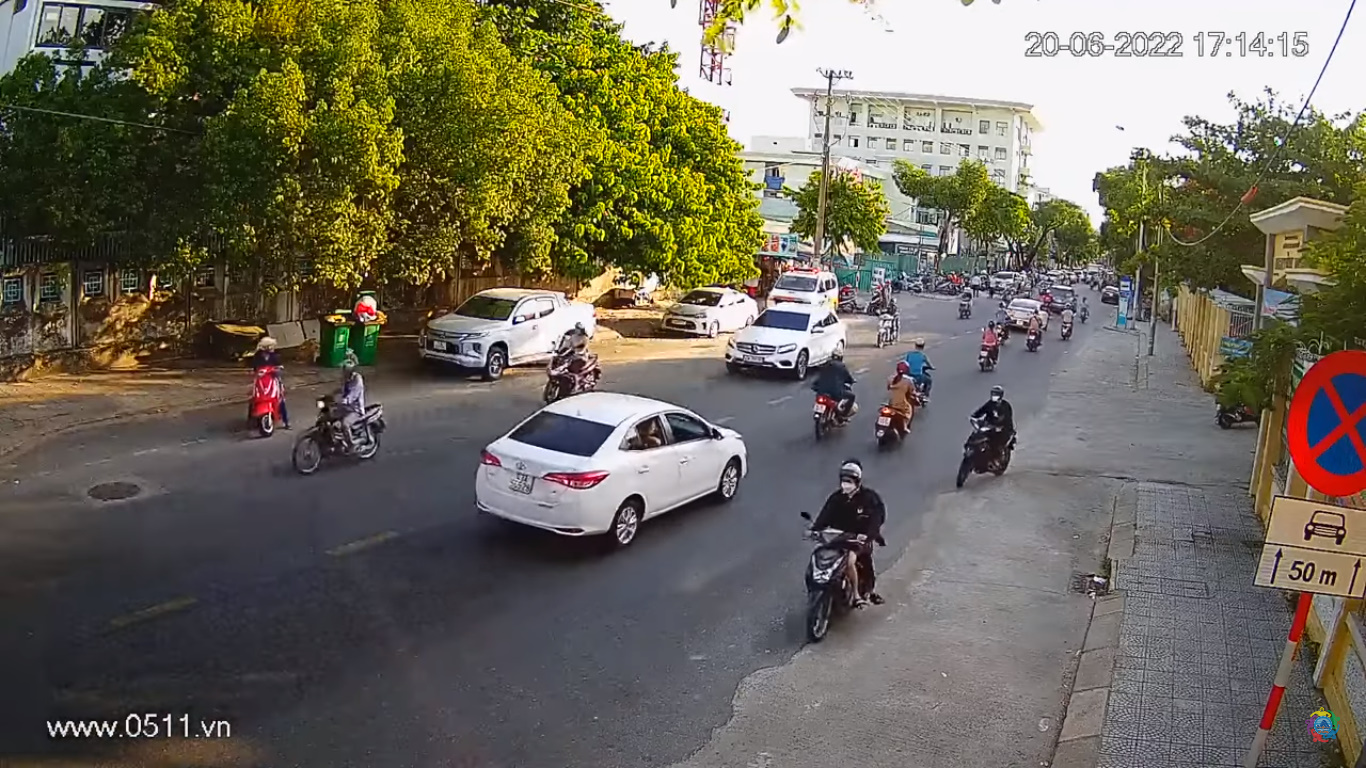car: (474, 389, 752, 555), (727, 309, 848, 381)
